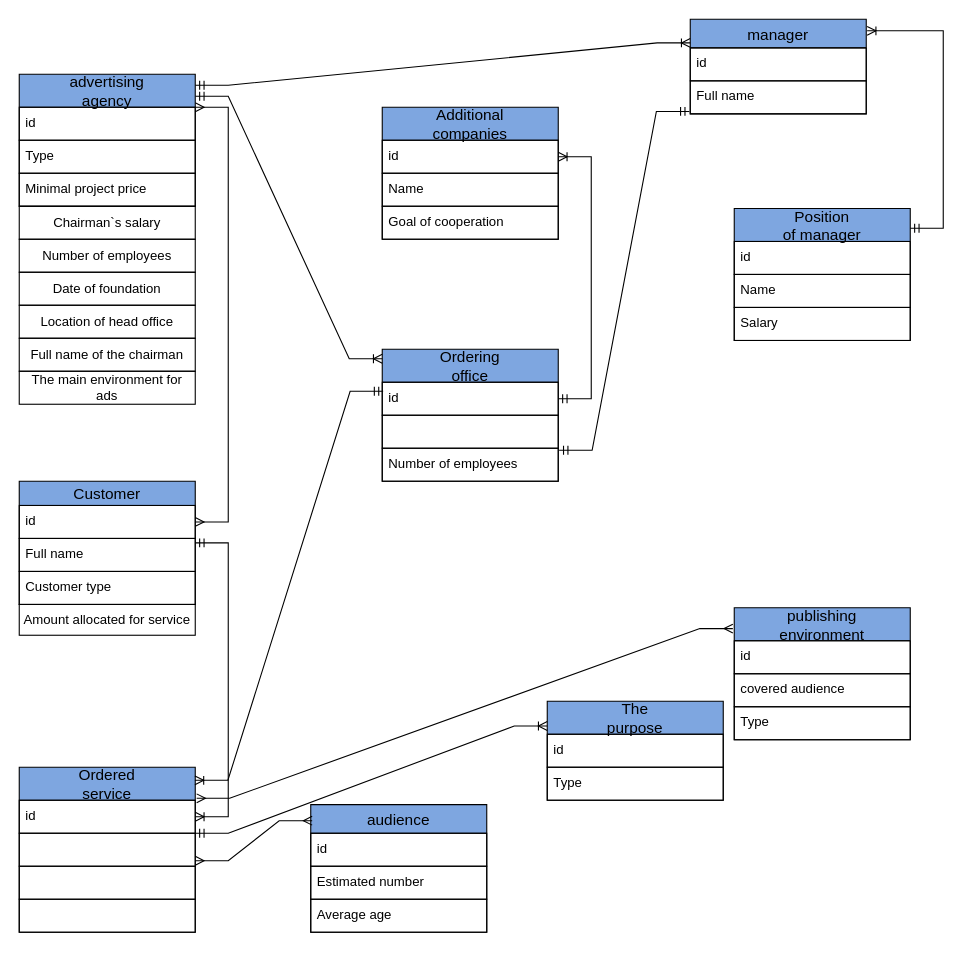
Some shapes in this 972 by 955 pixel diagram are drawn without their labels. The shapes that lost their labels are listed below. From the top down, each one's centre as x and y in pixels, then its label:
the point at 469,431: Location
the point at 106,849: Price
the point at 106,882: Date of the start
the point at 106,915: Date of the end
